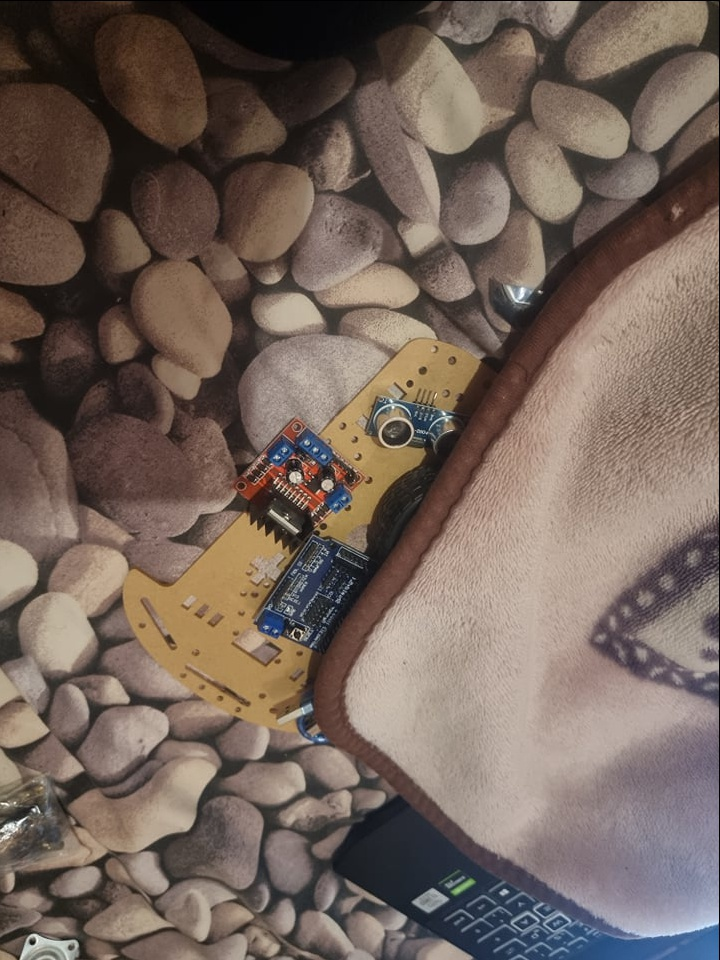5V EXPANSION: (255, 534, 379, 653)
MOTOR: (232, 416, 360, 546)
SENSOR: (373, 395, 460, 455)
